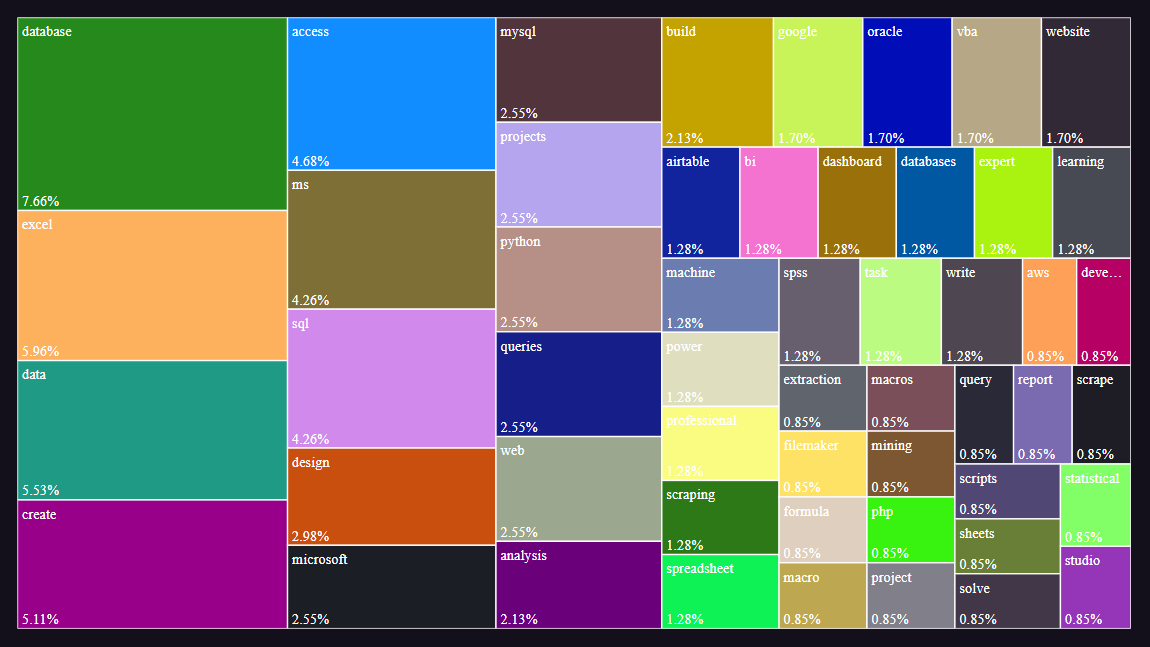

The page's visual inventory and layout, read from the dashboard file:
{"tool":"powerbi","page":{"name":"Page 2","canvas":[1280,720],"ordinal":1},"visuals":[{"type":"treemap","fields":{"Values":["Sum(export_fiverr_word_count.Freq)"],"Group":["export_fiverr_word_count.fiverr_words_cleaned"]},"box":[13.3,15.6,1252.2,690],"z":0}]}

Visuals, with their boxes in screenshot pixels (x1, y1, x2, y2), scaled from the page's 1280x720 canvas onto the 1150x647 screenshot:
treemap - Sum(export_fiverr_word_count.Freq) x export_fiverr_word_count.fiverr_words_cleaned: pyautogui.locateOnScreen(12, 14, 1137, 634)
